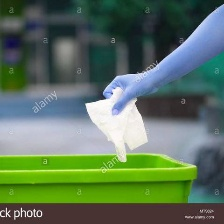plastic_box: (0, 147, 202, 203)
tissue: (80, 84, 151, 164)
